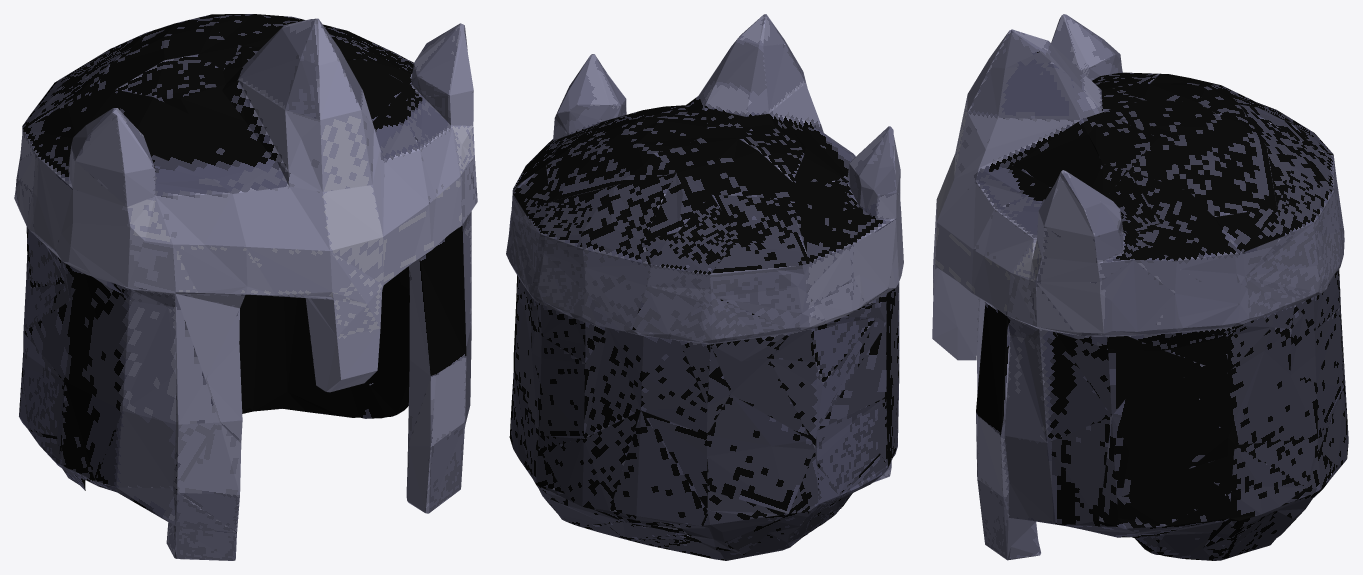
3 renders of one model, left to right at view 1: azimuth 30°, elevation 25°; view 2: azimuth 150°, elevation 25°; view 3: azimuth 270°, elevation 25°, orthographic. The views are drawn at different scales.
Parts seen in each view (by area): view 1: OBJ02e; view 2: OBJ02e; view 3: OBJ02e.
Part boxes in pixels (x1,y1,x2,y2): OBJ02e: (14, 14, 477, 560); OBJ02e: (506, 14, 903, 560); OBJ02e: (932, 14, 1348, 560).
Size of the model in its own units: 0.2004 by 0.2415 by 0.1924.
1 material, 1 textured.
